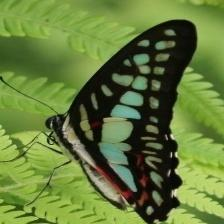butterfly: (46, 20, 198, 224)
